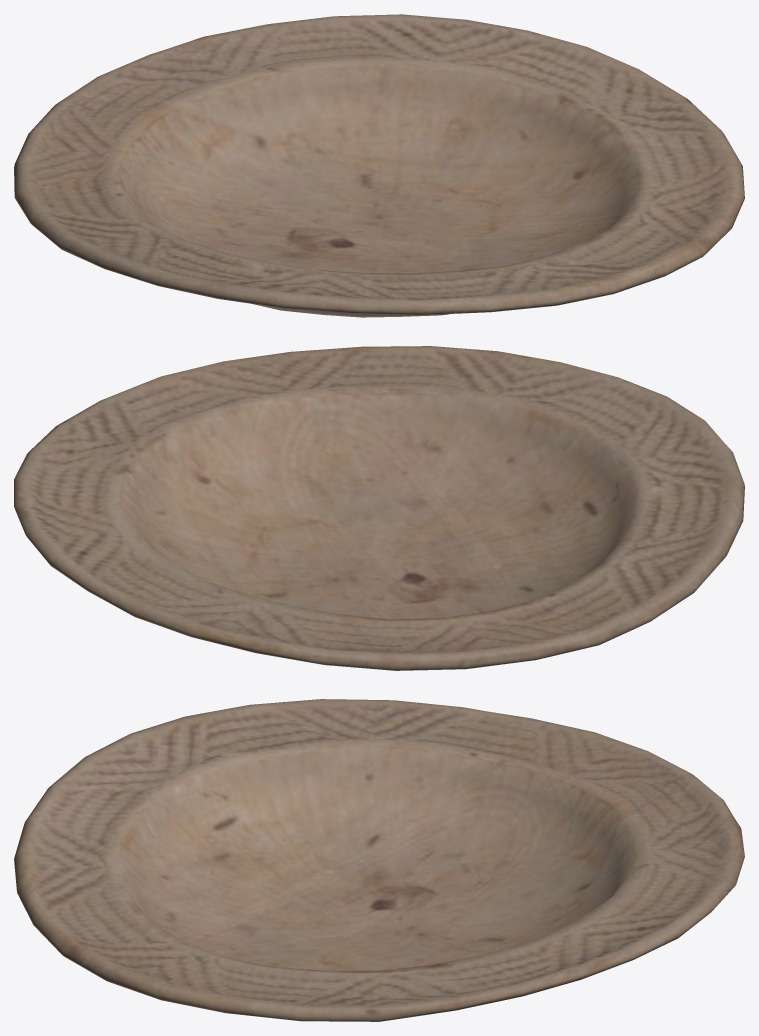
Rendered from carved_wooden_plate_1k.fbx.
The picture shows the model from 3 angles, top to bottom: view 1: azimuth 30°, elevation 25°; view 2: azimuth 150°, elevation 25°; view 3: azimuth 270°, elevation 25°; orthographic projection. The views are drawn at different scales.
Visible parts, largest first — view 1: carved_wooden_plate; view 2: carved_wooden_plate; view 3: carved_wooden_plate.
Boxes of the visible parts, x1,y1,x2,y2 form: carved_wooden_plate: (14,14,744,317); carved_wooden_plate: (14,346,744,670); carved_wooden_plate: (14,699,744,1021).
Bounding box in the file's own units: 27.18 × 3.81 × 26.88.
